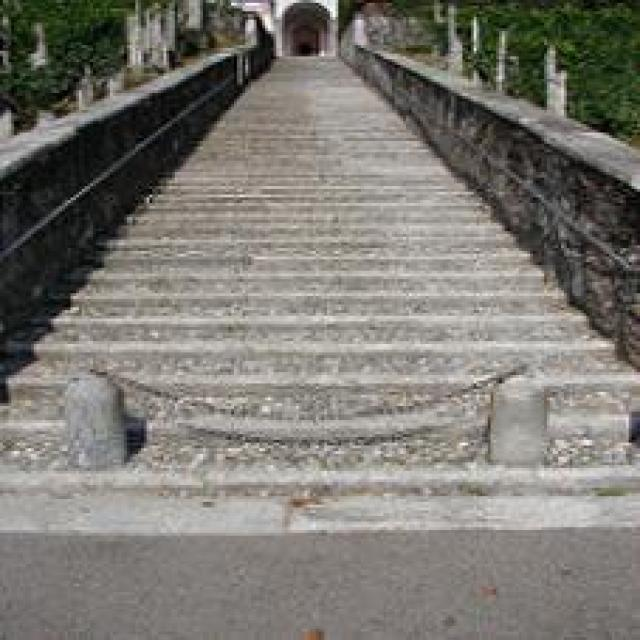downstair: (32, 291, 534, 534)
